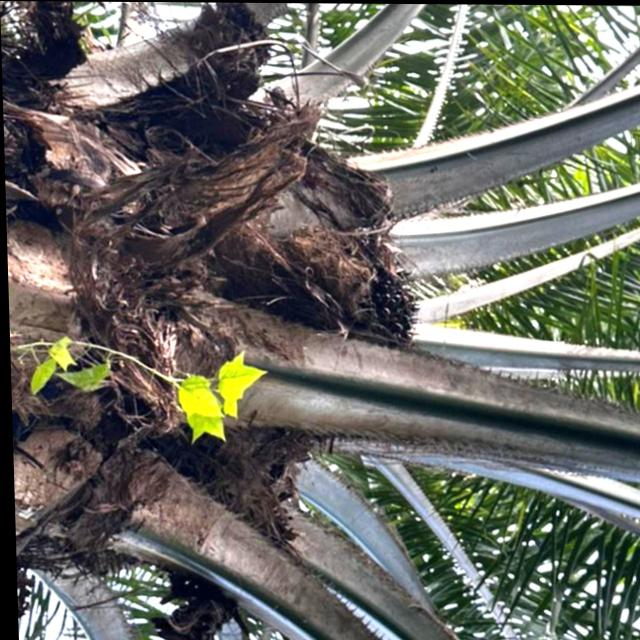unripe: (257, 194, 438, 365)
